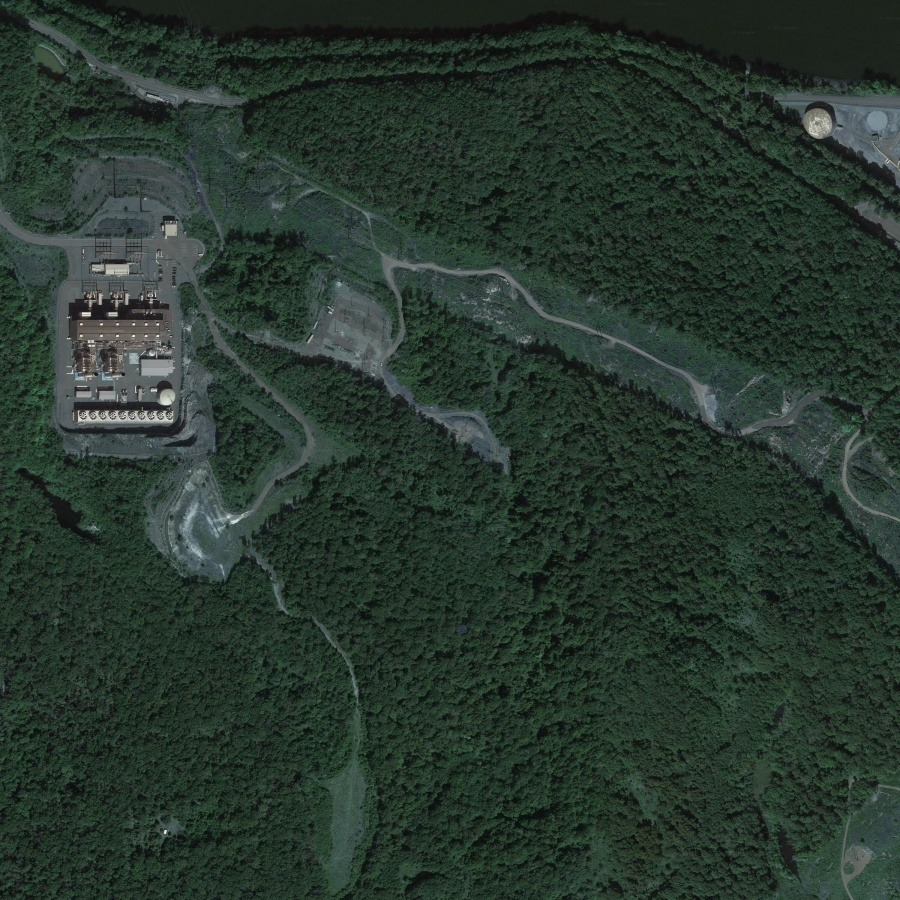PowerPlant: (60, 200, 206, 440)
